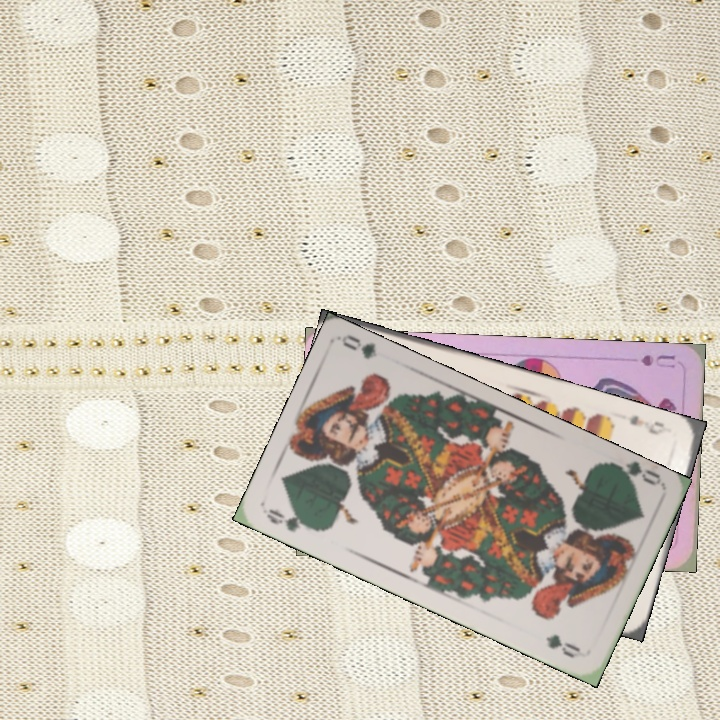E9: (624, 411, 675, 438)
GO: (605, 457, 664, 491), (262, 504, 320, 535)
SU: (636, 350, 678, 371)
